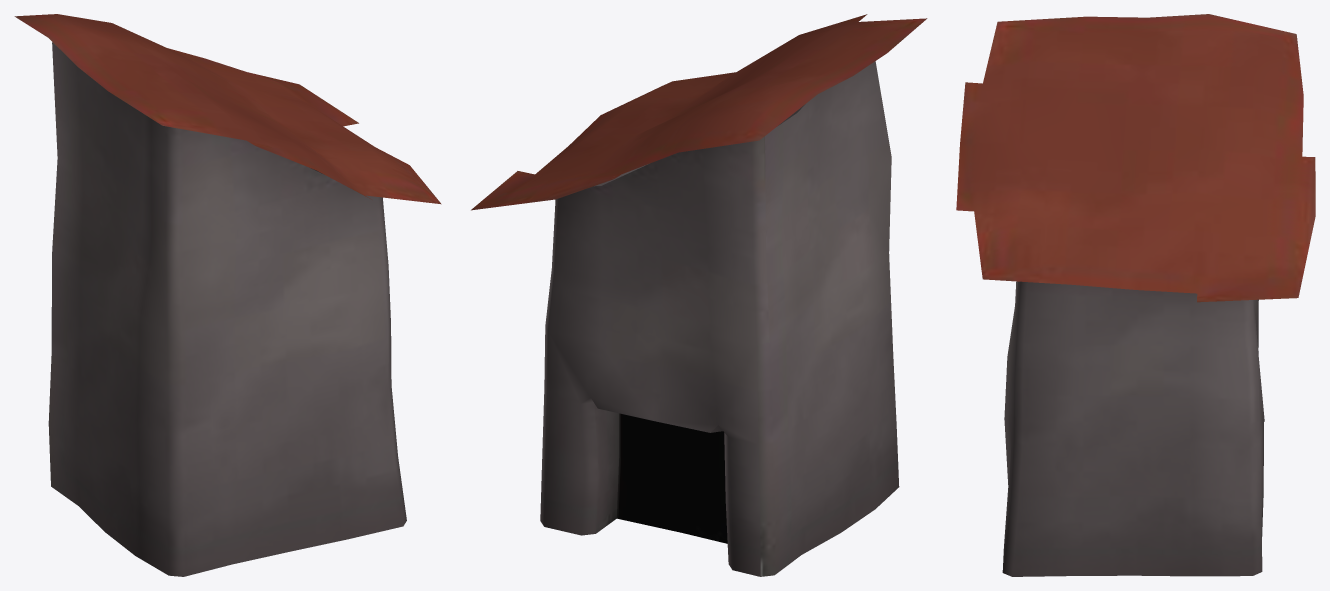
Rendered from MSH_Building_Hole_002.glb.
The picture shows the model from 3 angles, left to right: view 1: azimuth 30°, elevation 25°; view 2: azimuth 150°, elevation 25°; view 3: azimuth 270°, elevation 25°; orthographic projection. The views are drawn at different scales.
Visible parts, largest first — view 1: Base.003; view 2: Base.003; view 3: Base.003.
Boxes of the visible parts, bbox=[...] form: Base.003: bbox=[14, 14, 441, 576]; Base.003: bbox=[471, 14, 927, 576]; Base.003: bbox=[956, 14, 1315, 576].
Bounding box in the file's own units: 6.9 × 10 × 7.32.
Materials: 1 (1 with a texture image).
